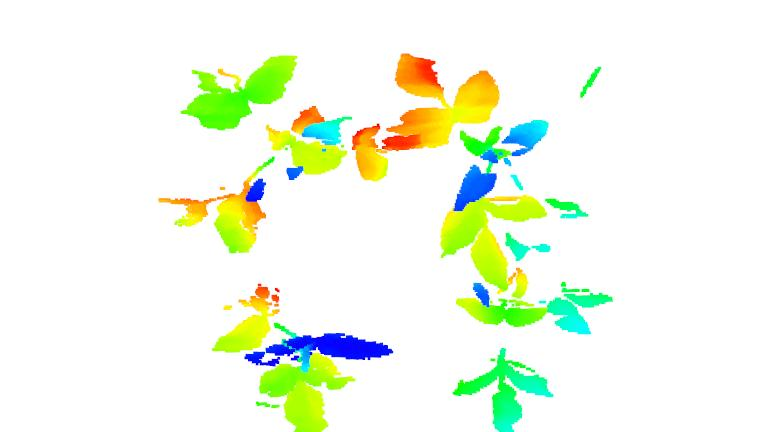mungbean: (377, 52, 561, 289), (156, 48, 350, 259), (209, 276, 397, 430), (448, 262, 611, 432)
